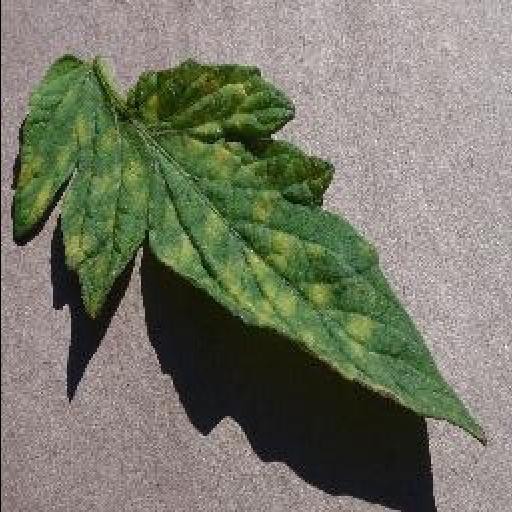disease_tomato: (12, 54, 482, 446)
